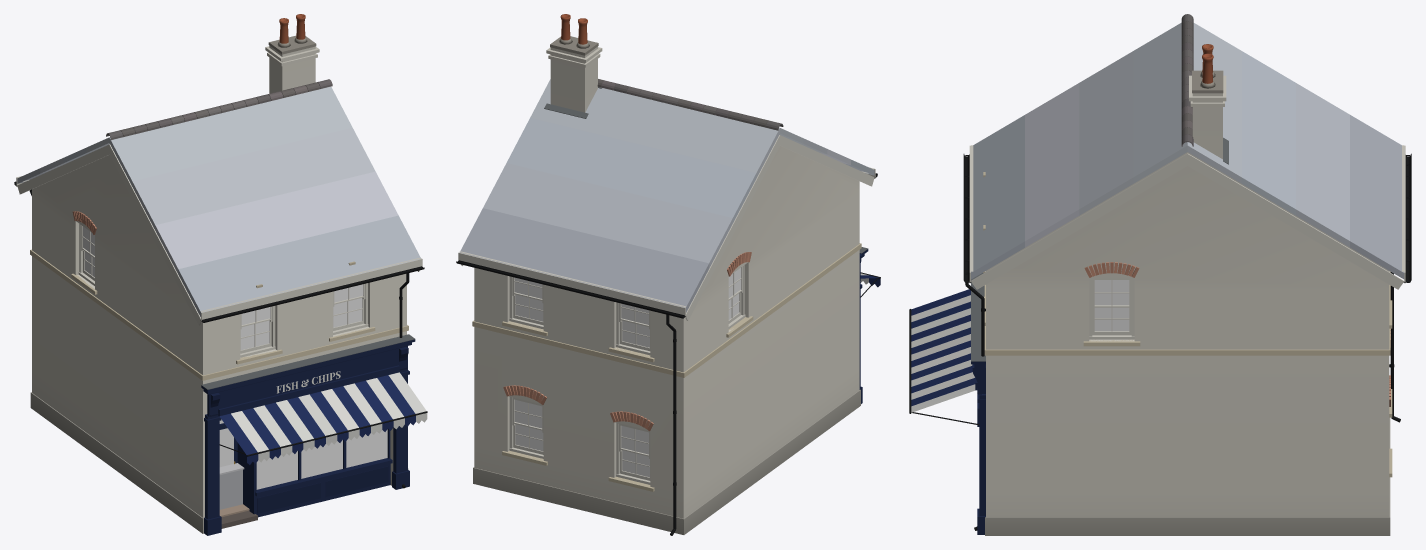
The model's file is town_chip_shop_a.glb.
3 views of the same model, side by side, from view 1: azimuth 30°, elevation 25°; view 2: azimuth 150°, elevation 25°; view 3: azimuth 270°, elevation 25° (orthographic). The views are drawn at different scales.
Parts seen in each view (by area): view 1: body; view 2: body; view 3: body.
Boxes of the visible parts, box(x1,y1,x2,y2) form: body: box(14, 14, 427, 535); body: box(456, 14, 880, 535); body: box(909, 14, 1411, 535).
Size of what is drawn, in the model's own units: 5.97 by 10.35 by 9.96.
